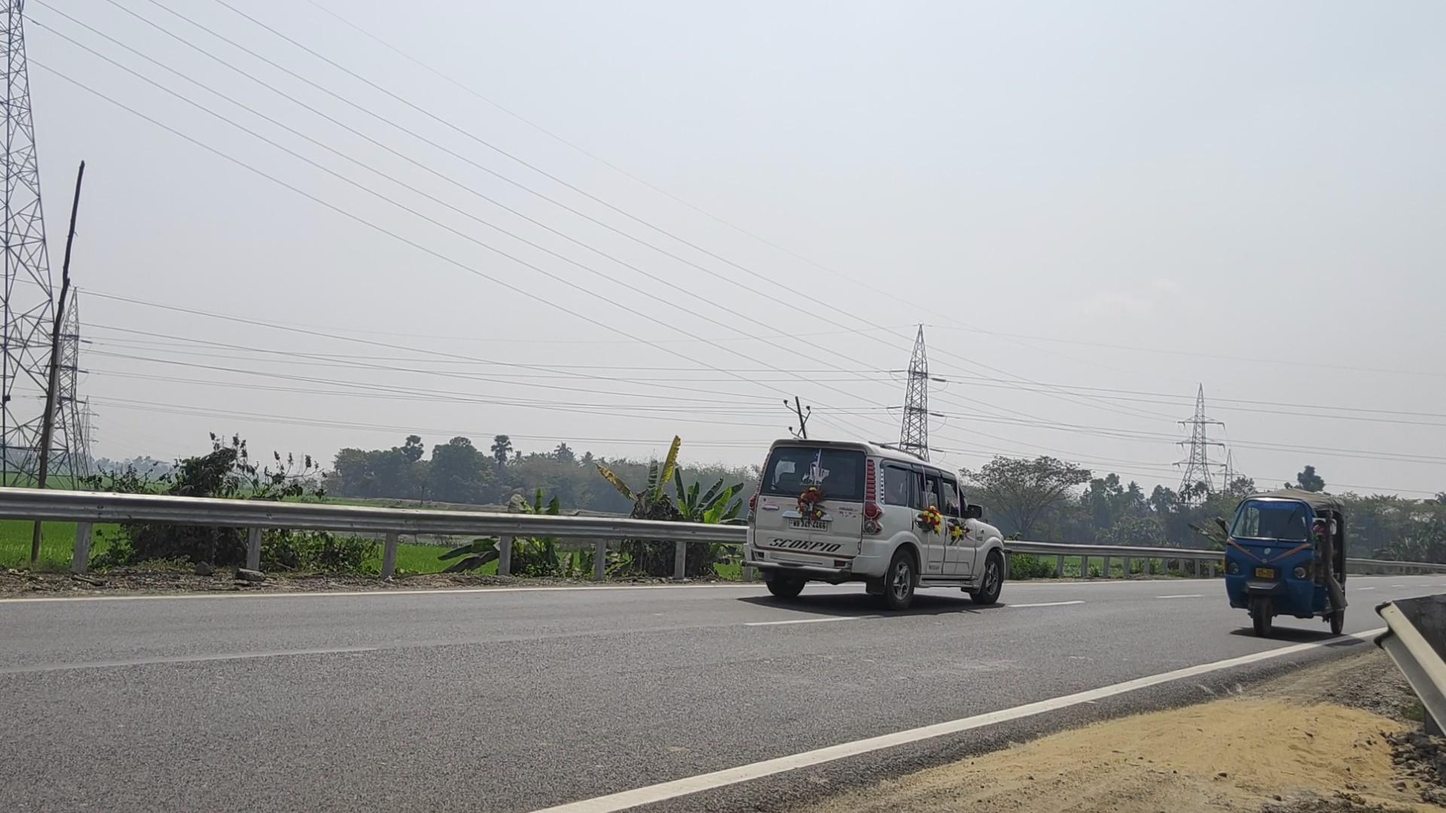Auto: (1216, 489, 1348, 638)
car: (740, 438, 1011, 612)
